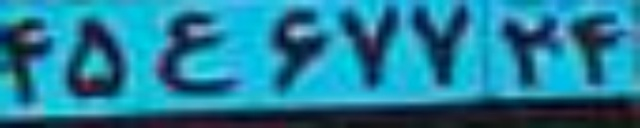2: (500, 12, 556, 86)
4: (566, 10, 624, 84), (0, 20, 49, 103)
5: (59, 17, 124, 97)
6: (268, 10, 328, 91)
7: (407, 1, 471, 87), (339, 4, 396, 89)
ain: (143, 11, 242, 94)
